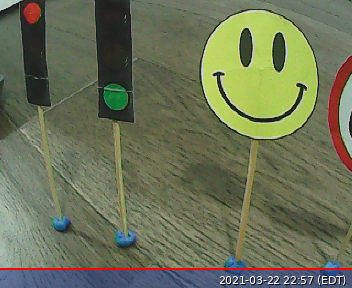Green Traffic Light: (94, 1, 134, 126)
Person: (198, 8, 318, 141)
Red Traffic Light: (19, 1, 53, 108)
